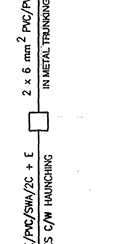Cable Termination Box: (21, 104, 61, 140)
